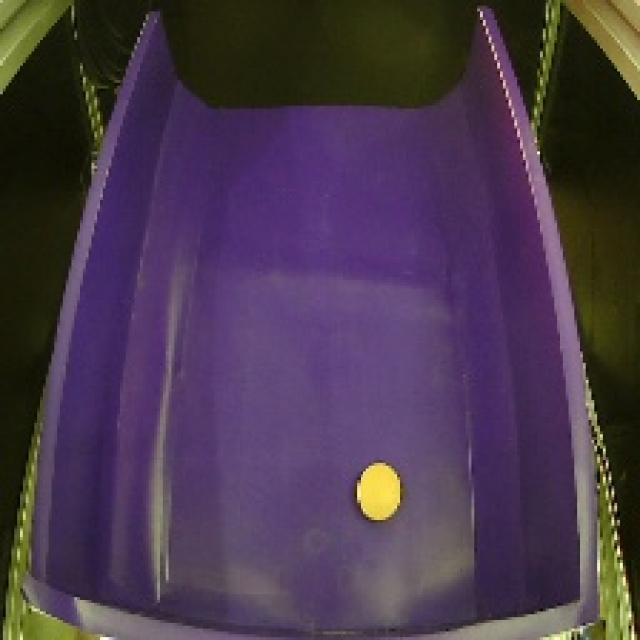small: (350, 453, 407, 526)
